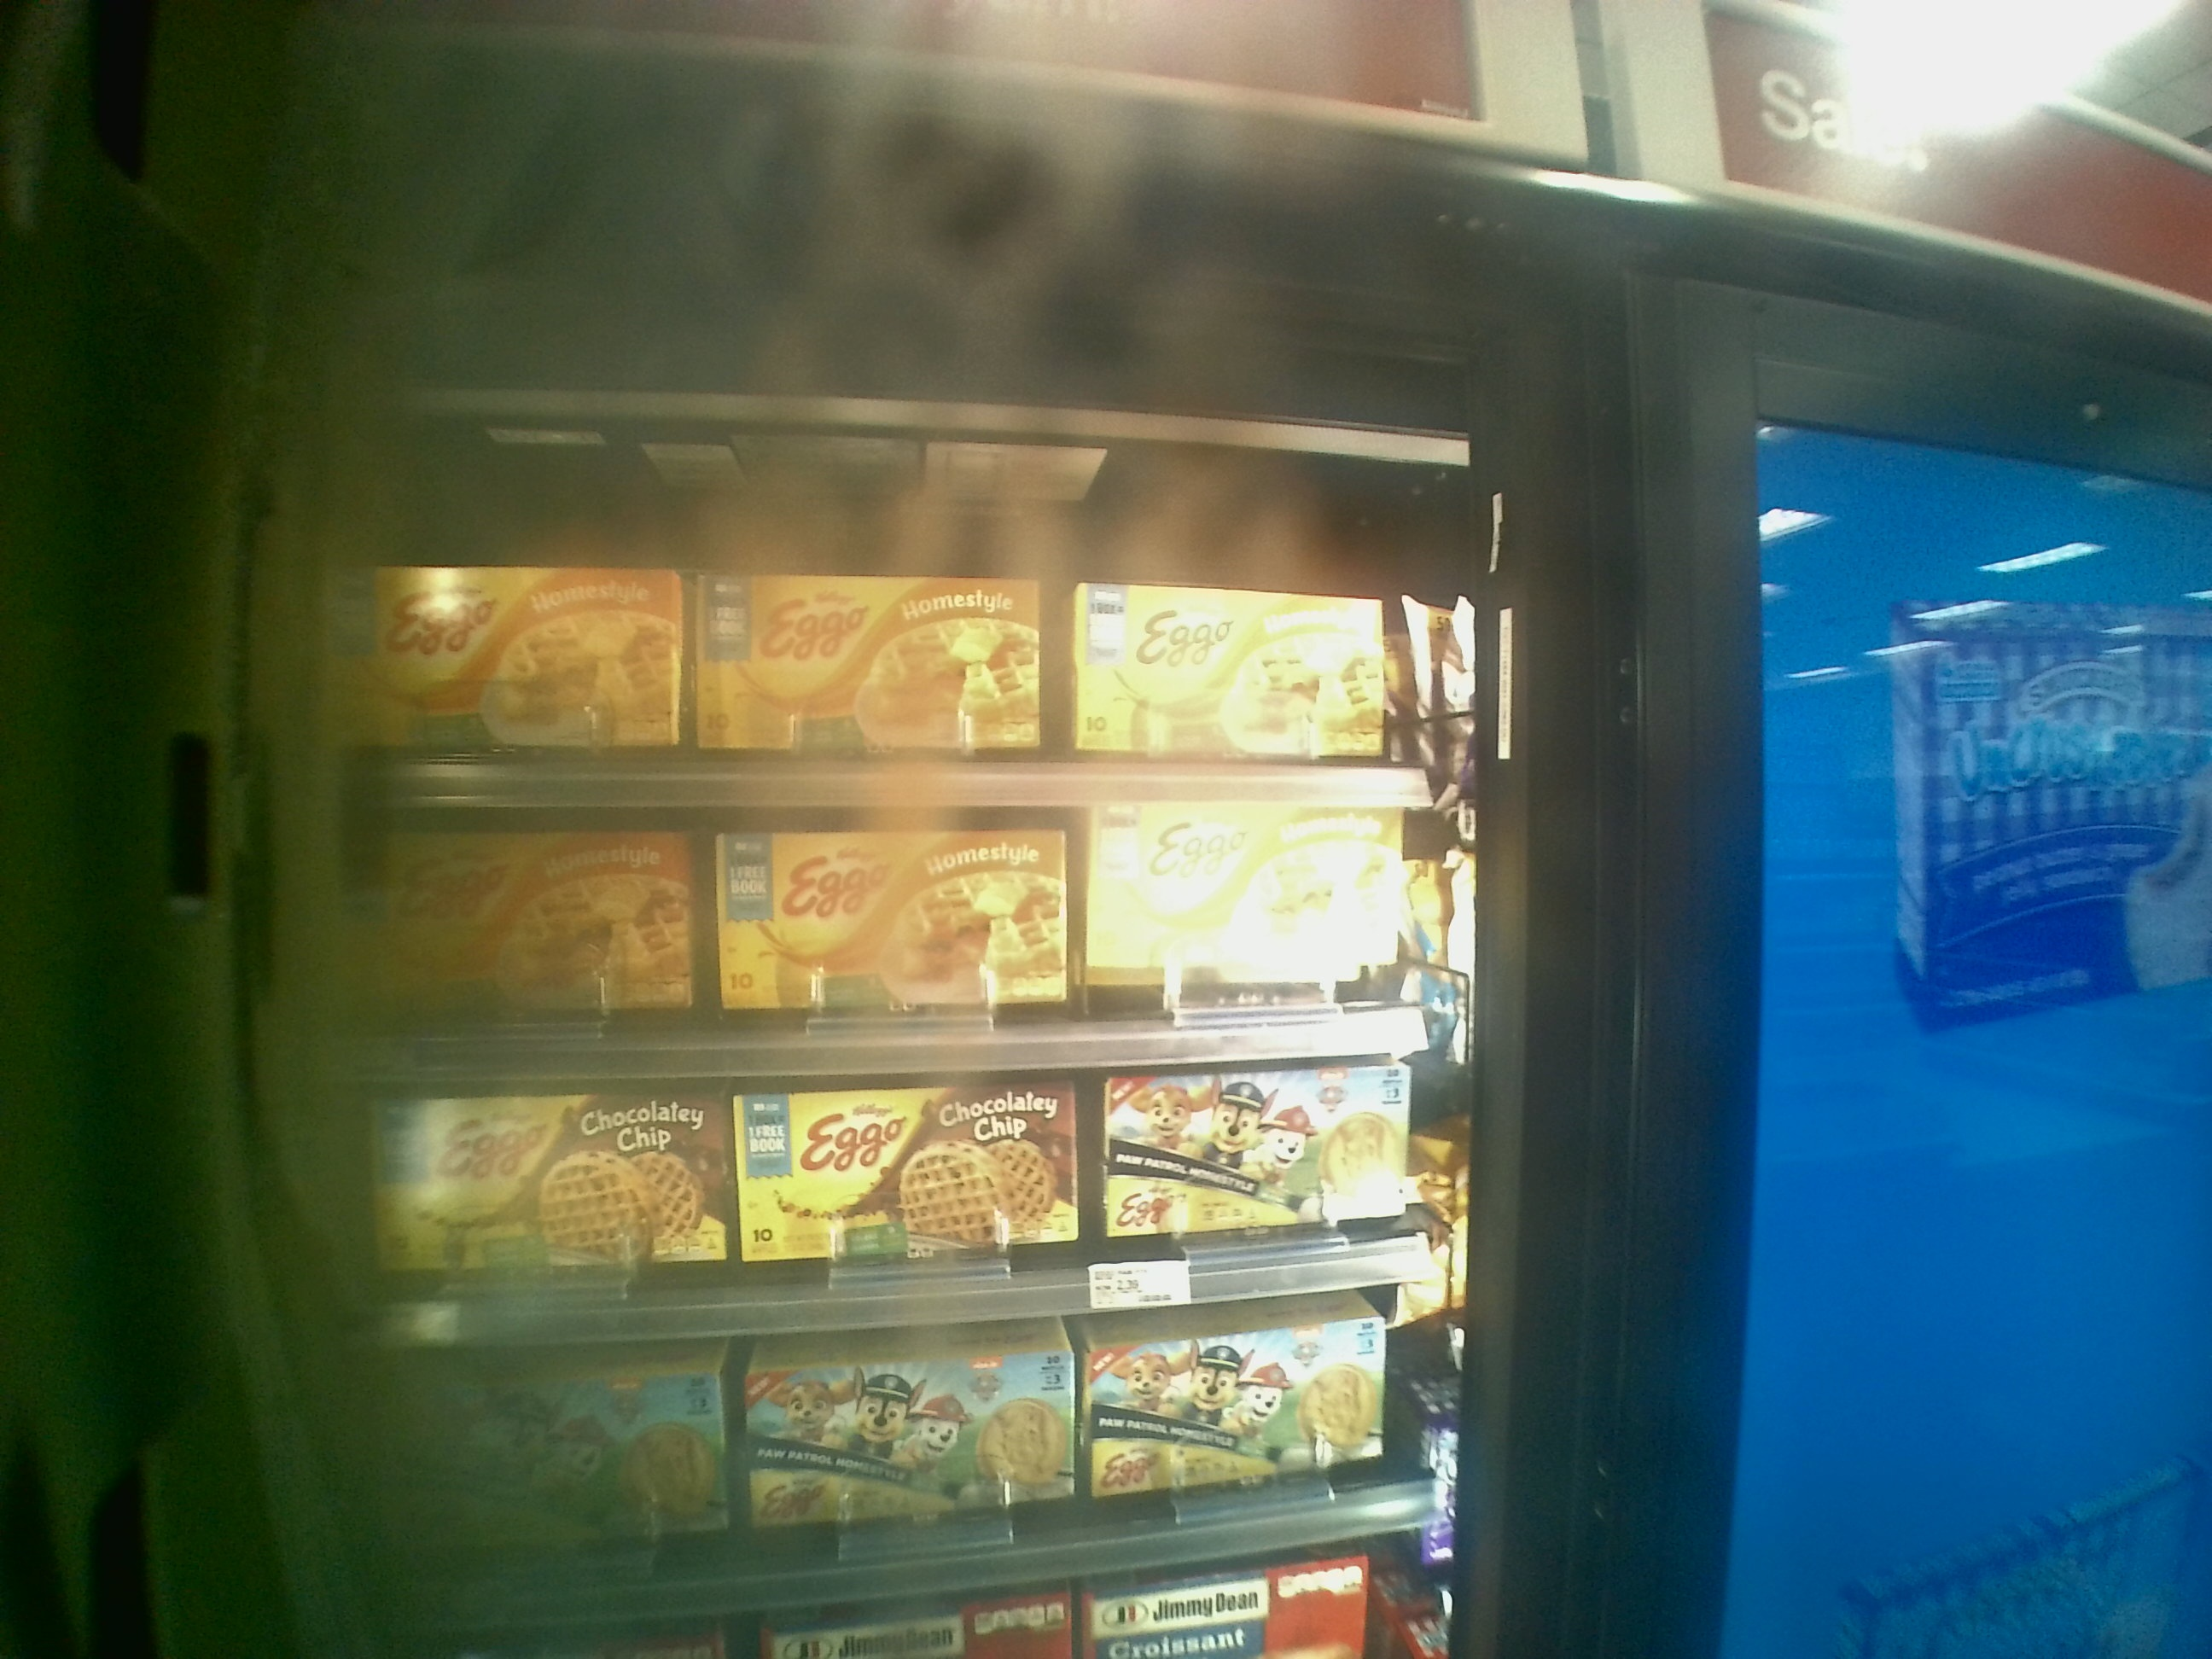shelf: (327, 350, 1430, 802), (343, 1047, 1458, 1338), (343, 784, 1463, 1073)
